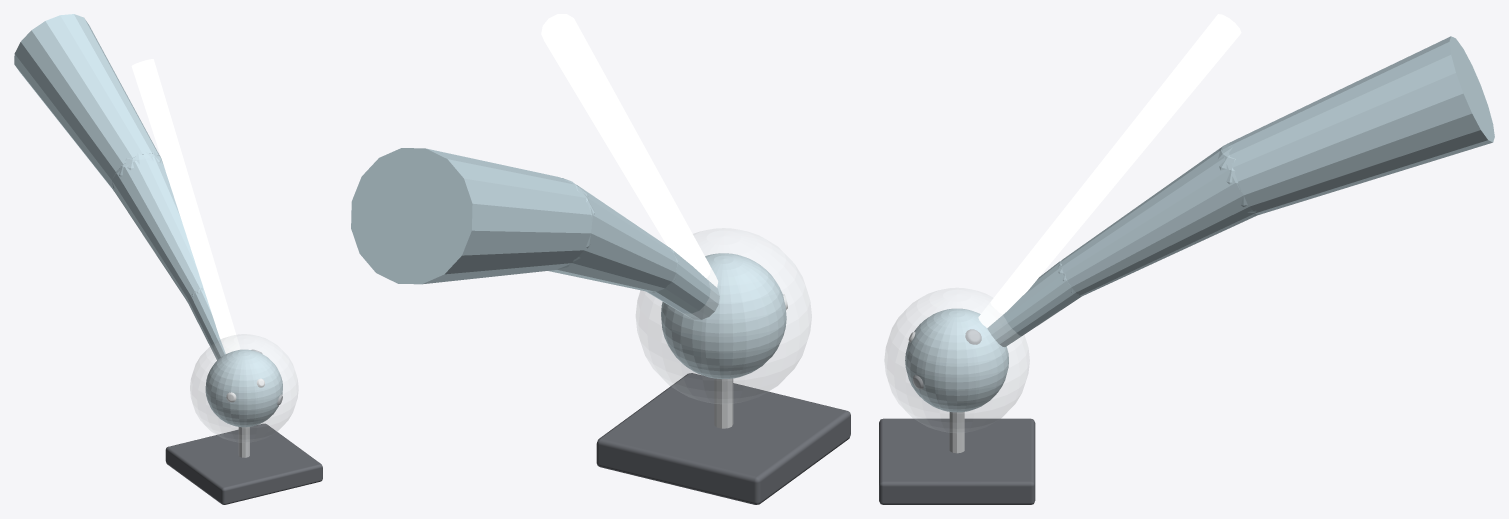
File: solar-system-and-astronauts-comet-tail-long-456a04be__39243.glb
3 views of the same model, side by side, from view 1: azimuth 30°, elevation 25°; view 2: azimuth 150°, elevation 25°; view 3: azimuth 270°, elevation 25° (orthographic). The views are drawn at different scales.
Visible parts, largest first — view 1: comet-tail-long; view 2: comet-tail-long; view 3: comet-tail-long.
Boxes of the visible parts, <box> form: comet-tail-long: <box>14,14,322,504</box>; comet-tail-long: <box>351,14,850,504</box>; comet-tail-long: <box>879,14,1494,504</box>.
Bounding box in the file's own units: 0.3 × 0.9702 × 1.18.
